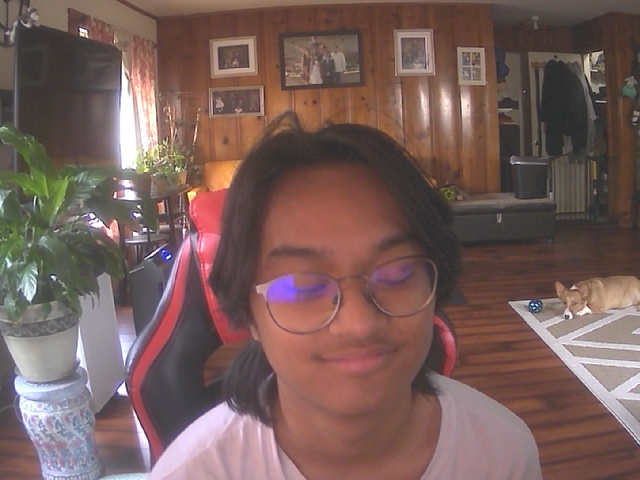happy: (232, 138, 454, 422)
